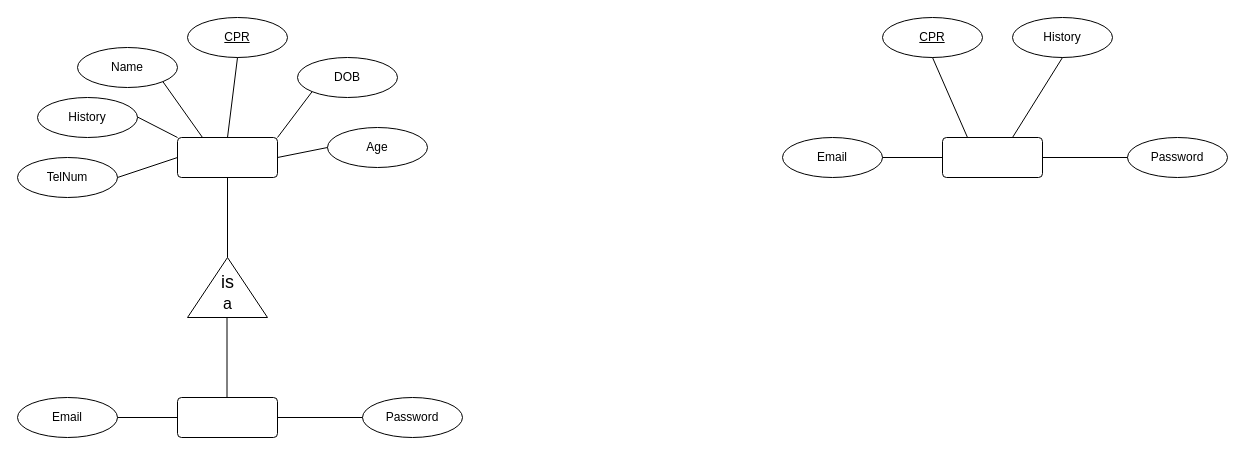
Some shapes in this 1245 by 455 pixel diagram are drawn without their labels. Each missing label, with the centre of its shape:
"Login" belongs at [992,157].
"Person" belongs at [227,157].
"Register" belongs at [227,417].
